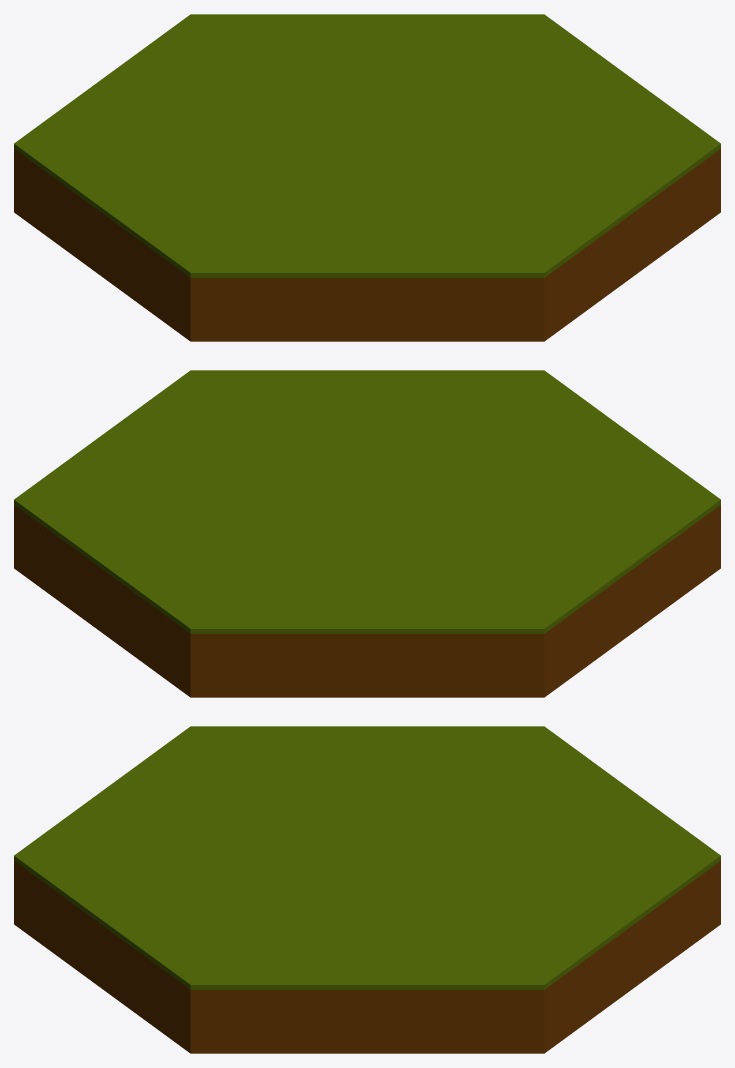
Rendered from grass3.fbx.
3 renders of one model, top to bottom at view 1: azimuth 30°, elevation 25°; view 2: azimuth 150°, elevation 25°; view 3: azimuth 270°, elevation 25°, orthographic.
Visible parts, largest first — view 1: pasted__pasted__pCylinder4; view 2: pasted__pasted__pCylinder4; view 3: pasted__pasted__pCylinder4.
Part boxes in pixels (x1=…): pasted__pasted__pCylinder4: x1=14, y1=14, x2=720, y2=341; pasted__pasted__pCylinder4: x1=14, y1=370, x2=720, y2=697; pasted__pasted__pCylinder4: x1=14, y1=726, x2=720, y2=1053.
Bounding box in the file's own units: 1.73 × 0.2148 × 2.
